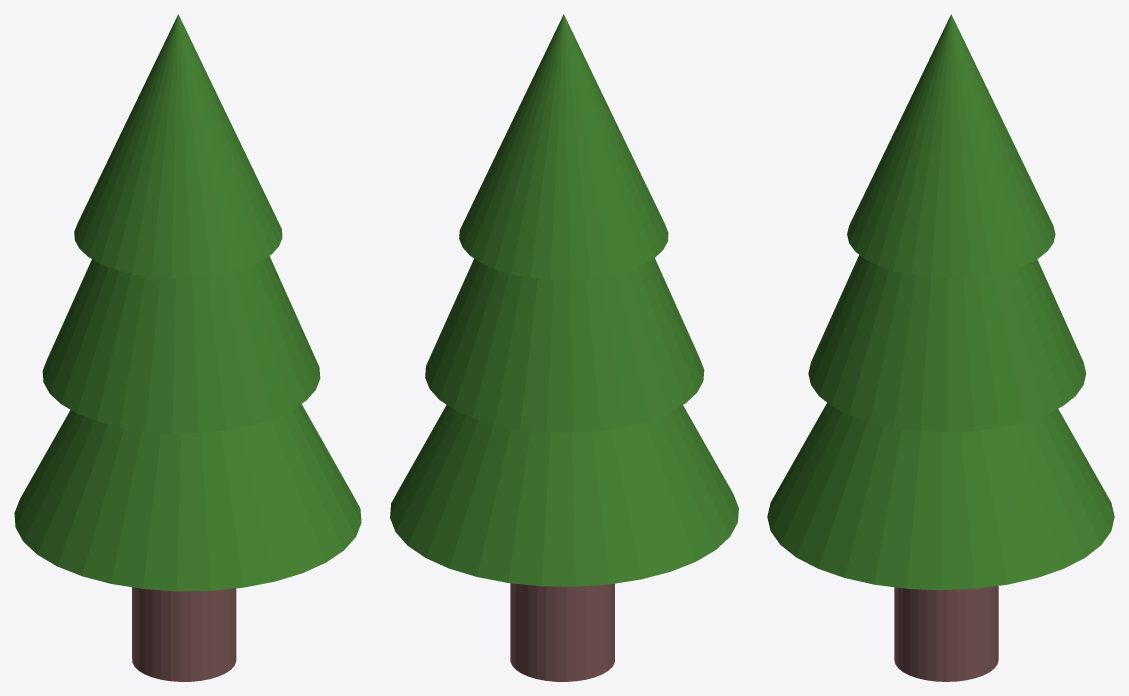
File: tree.gltf
The picture shows the model from 3 angles, left to right: view 1: azimuth 30°, elevation 25°; view 2: azimuth 150°, elevation 25°; view 3: azimuth 270°, elevation 25°; orthographic projection.
Visible parts, largest first — view 1: 锥体, 柱体; view 2: 锥体, 柱体; view 3: 锥体, 柱体.
Boxes of the visible parts, box(x1,y1,x2,y2) form: 锥体: box(14, 14, 361, 591); 柱体: box(132, 587, 236, 681); 锥体: box(390, 14, 738, 586); 柱体: box(510, 583, 614, 681); 锥体: box(767, 14, 1114, 590); 柱体: box(894, 586, 998, 681).
Size of the model in its own units: 2 by 4.09 by 2.
